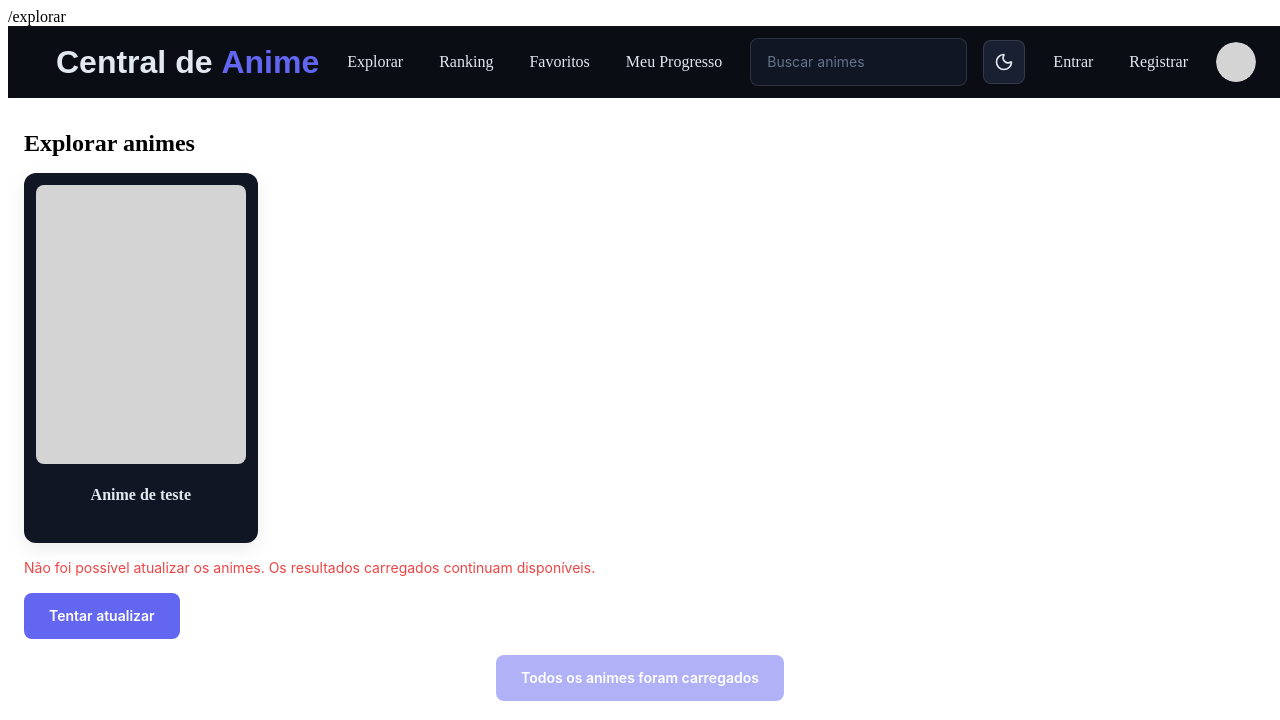
Scenario: Explorar e pesquisa › mantém resultados após falha de atualização e oferece retry
Expected: the message shows "Não foi possível atualizar os animes. Os resultados carregados continuam disponíveis.", [24, 559, 595, 576]
Expected: the heading "Anime de teste" is shown, [91, 486, 191, 503]
Click the button "Tentar atualizar".
click(102, 616)  # box [24, 593, 180, 639]
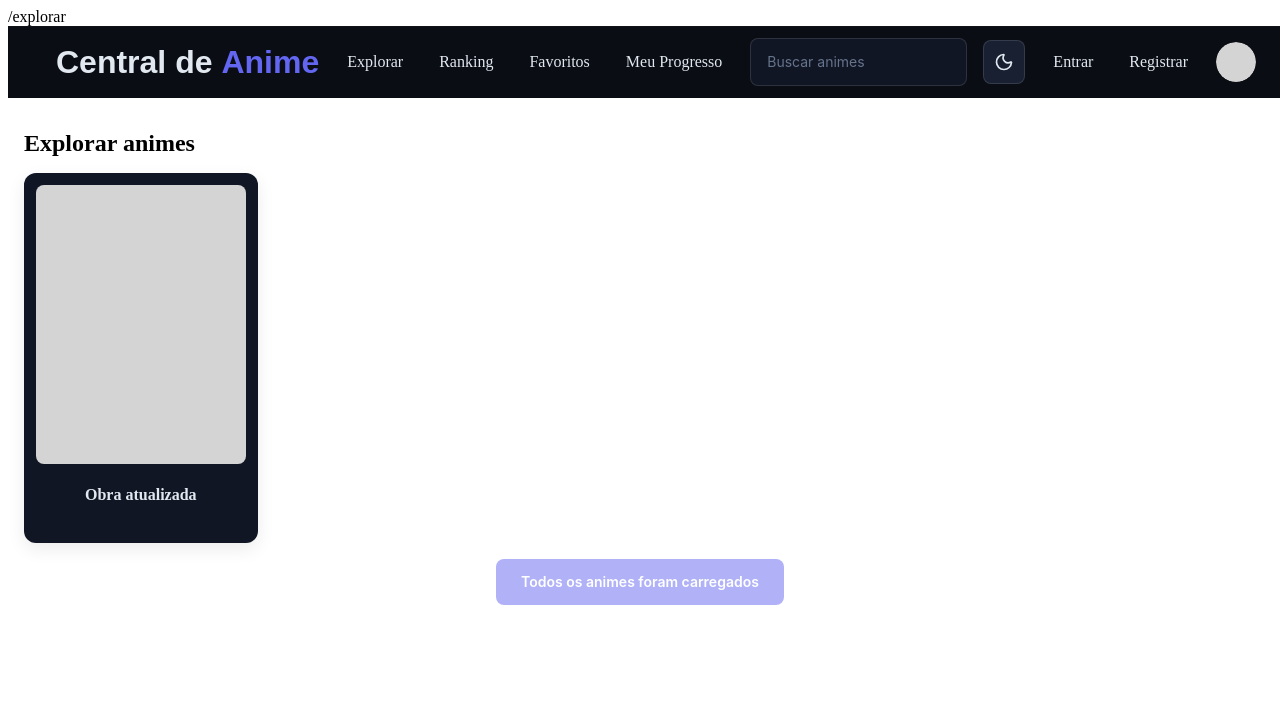
Expected: the heading "Obra atualizada" is shown, [85, 486, 197, 503]
Expected: the message is gone
